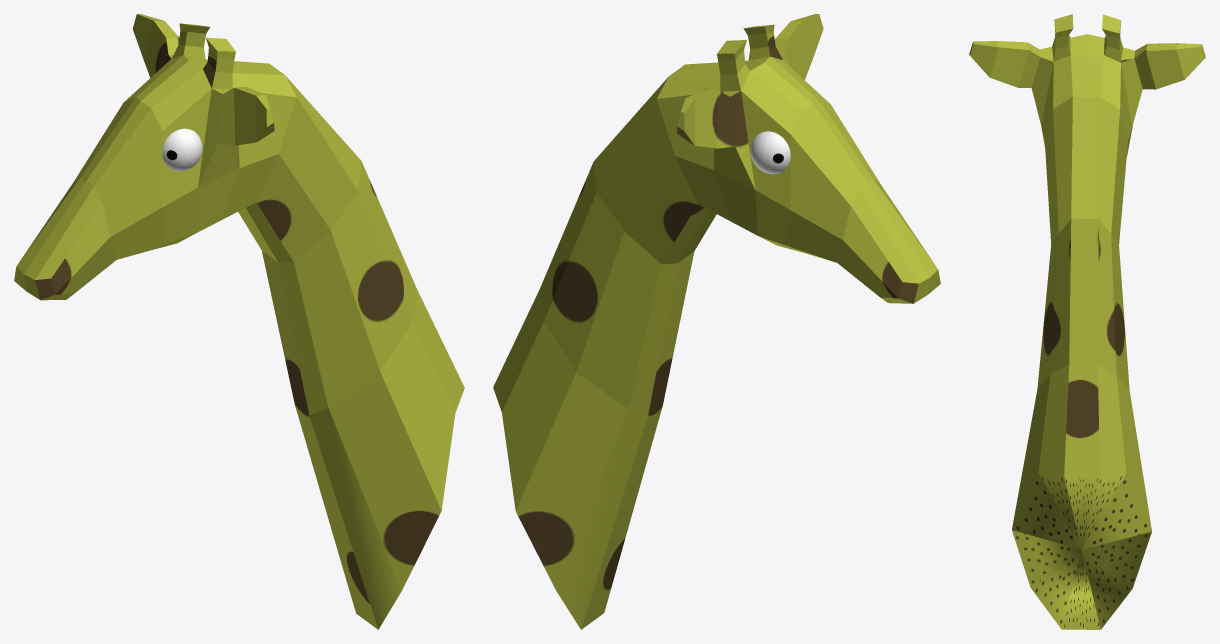
Rendered from CabezaDos.obj.
3 views of the same model, side by side, from view 1: azimuth 30°, elevation 25°; view 2: azimuth 150°, elevation 25°; view 3: azimuth 270°, elevation 25° (orthographic). The views are drawn at different scales.
Visible parts, largest first — view 1: polySurface27; view 2: polySurface27; view 3: polySurface27.
Part boxes in pixels (bbox=[...]): polySurface27: bbox=[14, 14, 464, 629]; polySurface27: bbox=[493, 14, 940, 629]; polySurface27: bbox=[969, 14, 1205, 629].
Bounding box in the file's own units: 1.37 × 1.92 × 0.757.
5 materials, 5 textured.
